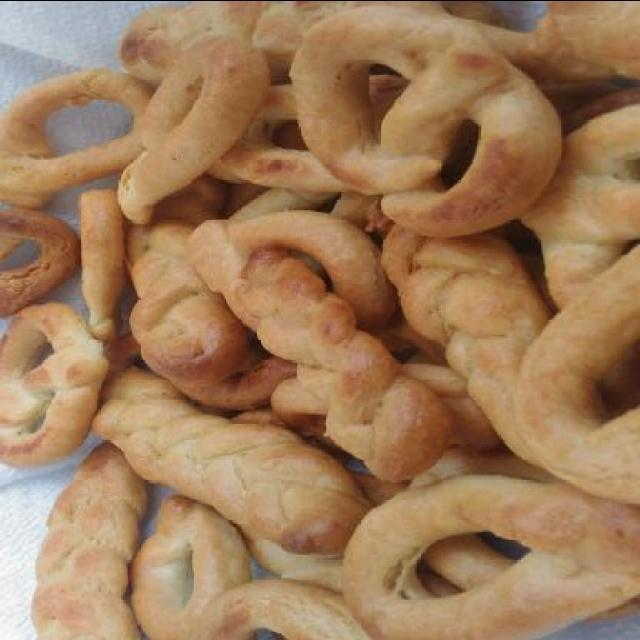Taralli: (17, 4, 614, 638)
